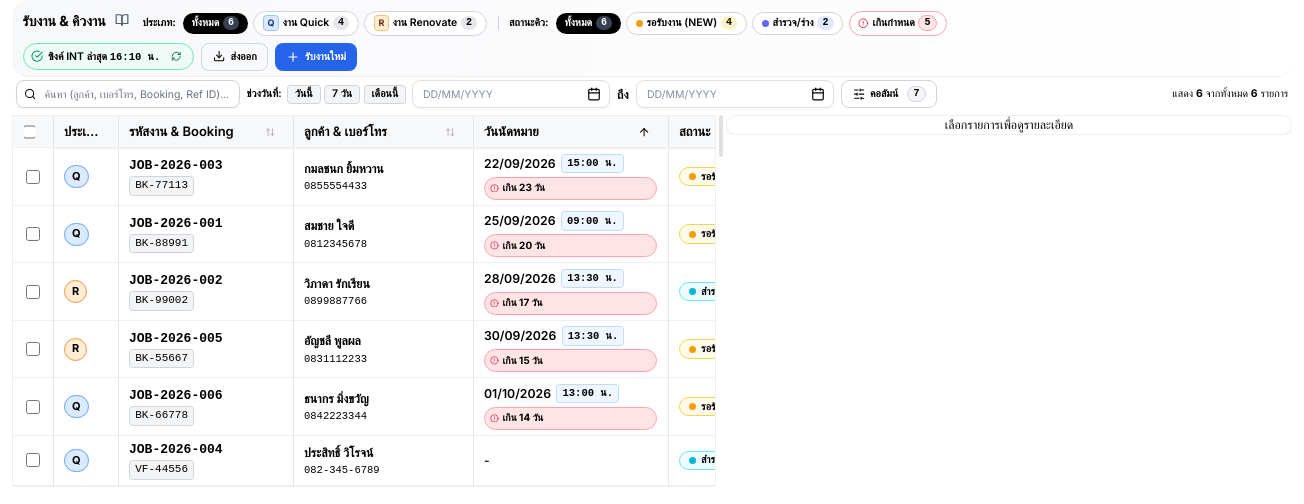
Scenario: OrdersPage - Master List Features (R1, R2, R3, R5) › clears active filters and restores all rows when "ล้างตัวกรอง" is clicked (R2)
Type "สมชาย" into the field with placeholder "ค้นหา (ลูกค้า, เบอร์โทร, Booking, Ref ID)..." at (128, 94), box left=16, top=80, right=240, bottom=108
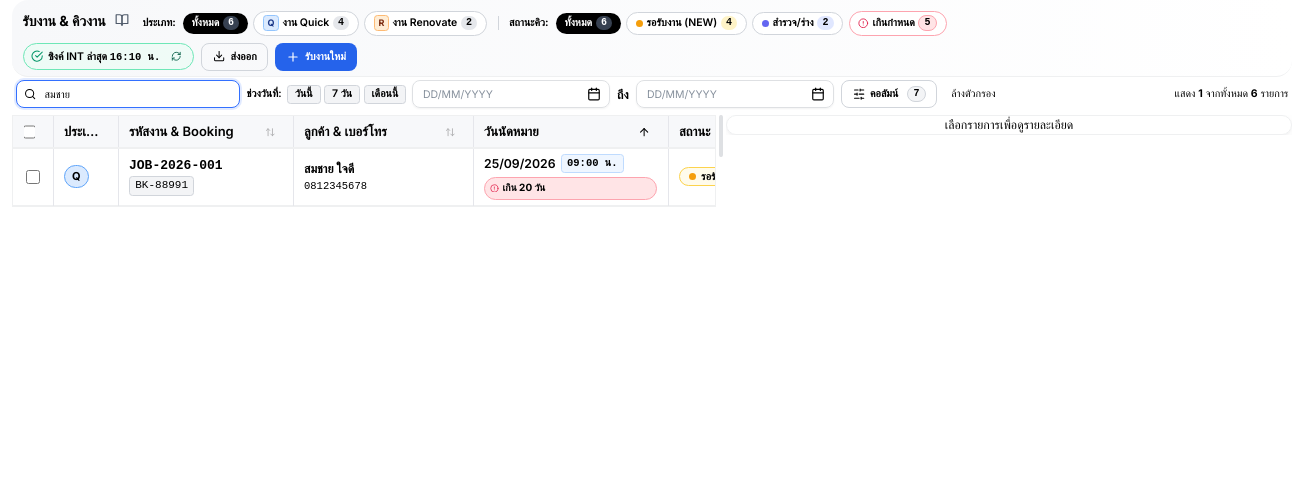
Expected: the text "สมชาย ใจดี" is shown, left=304, top=161, right=354, bottom=176
Now the text "วิภาดา รักเรียน" is gone
Now the button "ล้างตัวกรอง" is shown
Click the button "ล้างตัวกรอง" at (973, 94), box left=944, top=80, right=1003, bottom=108
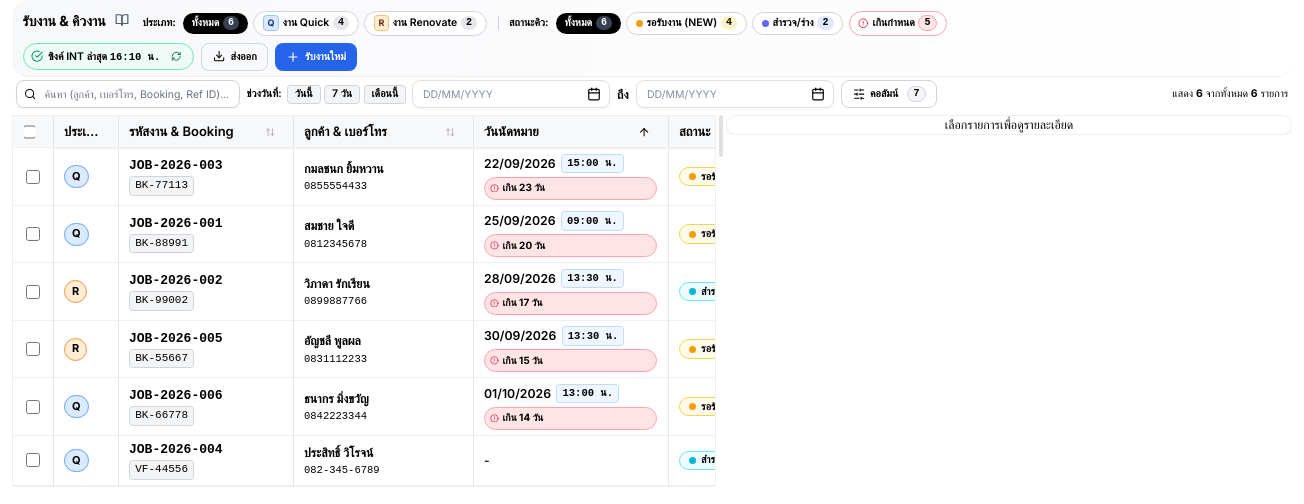
Expected: the text "สมชาย ใจดี" is shown, left=304, top=218, right=354, bottom=233
Now the text "วิภาดา รักเรียน" is shown, box left=304, top=276, right=370, bottom=291
Now the text "ประสิทธิ์ วิโรจน์" is shown, box left=304, top=445, right=373, bottom=460
